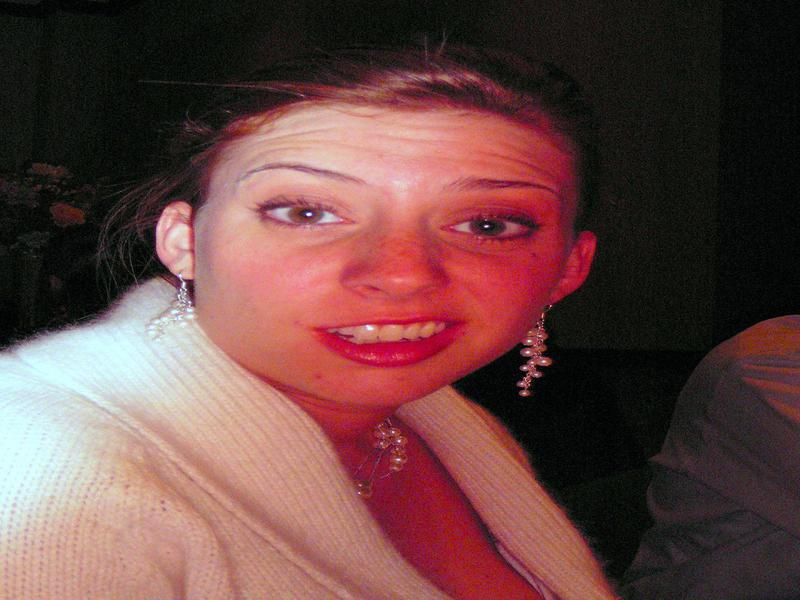person: (1, 35, 631, 598)
